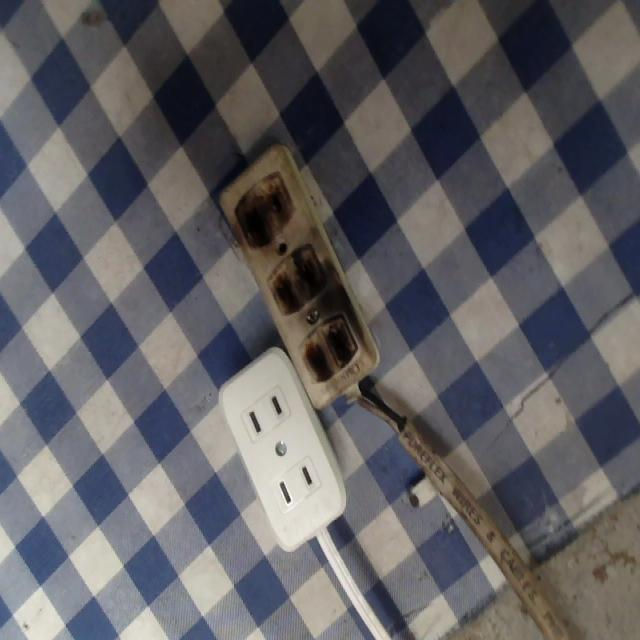-: (230, 164, 298, 252), (295, 312, 361, 380), (266, 238, 328, 310)
